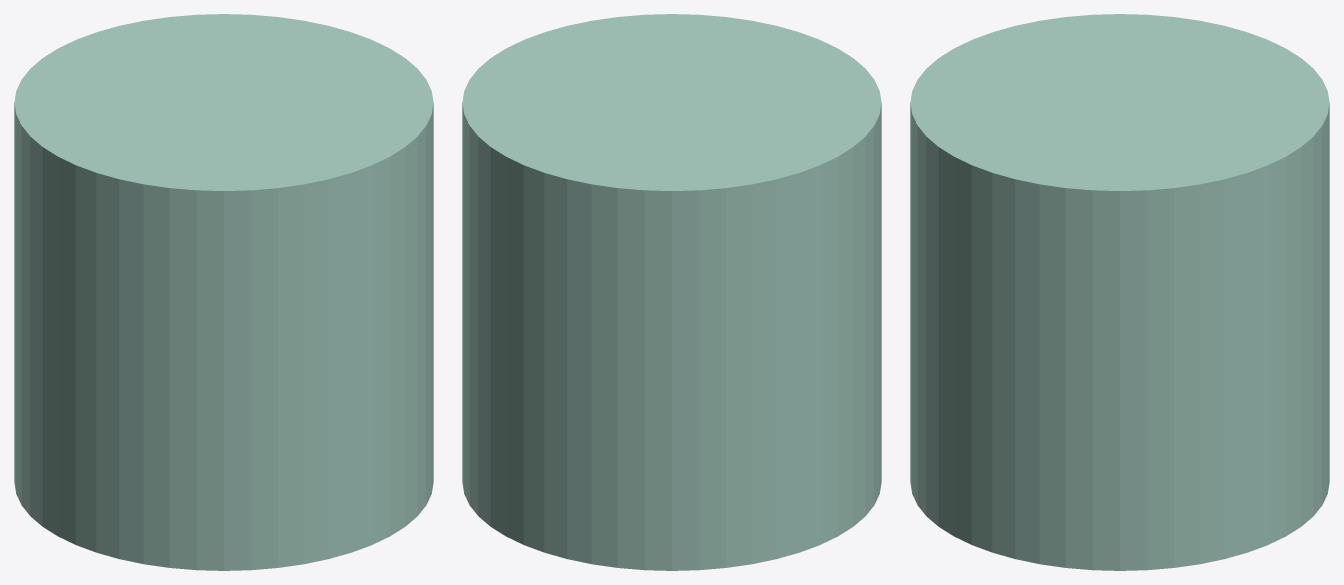
The model's file is room.fbx.
The picture shows the model from 3 angles, left to right: view 1: azimuth 30°, elevation 25°; view 2: azimuth 150°, elevation 25°; view 3: azimuth 270°, elevation 25°; orthographic projection.
Parts seen in each view (by area): view 1: Cylinder; view 2: Cylinder; view 3: Cylinder.
Part boxes in pixels (x1,y1,x2,y2): Cylinder: (14, 14, 433, 570); Cylinder: (462, 14, 881, 570); Cylinder: (910, 14, 1329, 570).
Size of the model in its own units: 2 by 2 by 2.
